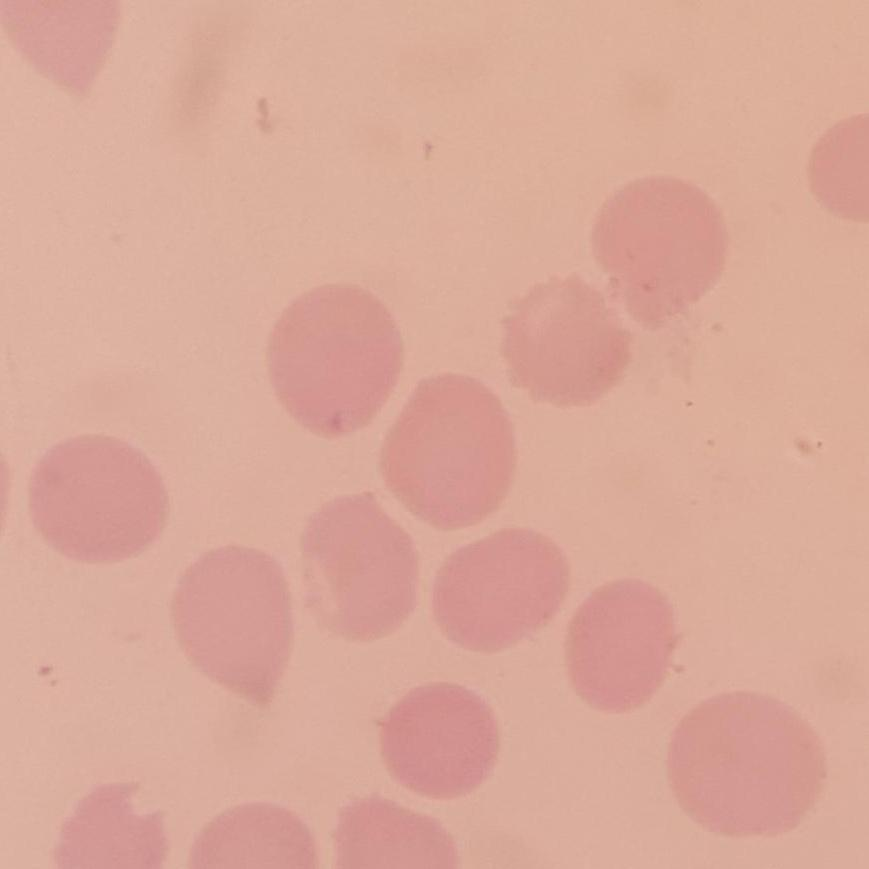Uninfected: (670, 691, 832, 843), (265, 281, 410, 441), (592, 166, 735, 320), (165, 543, 297, 700), (383, 376, 520, 526), (30, 436, 175, 563), (297, 496, 422, 643), (560, 578, 687, 718), (498, 266, 625, 403), (432, 531, 565, 656), (378, 686, 503, 803)
